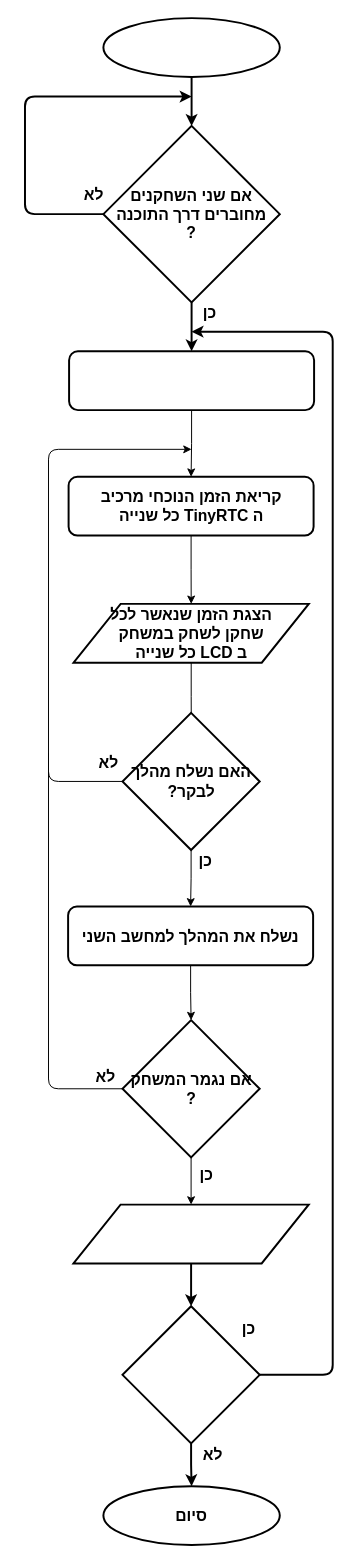
Some shapes in this 358 by 1562 pixel diagram are drawn without their labels. Each missing label, with the centre of its shape:
"איפוס ואתחול משתני המשחק(בArduino)" goes at point 191,380.
"אם לשחק שוב ?" goes at point 190,1374.
"הצגת סיום המשחק ואת מצב המשחק" goes at point 190,1233.
"התחלה" goes at point 191,47.
